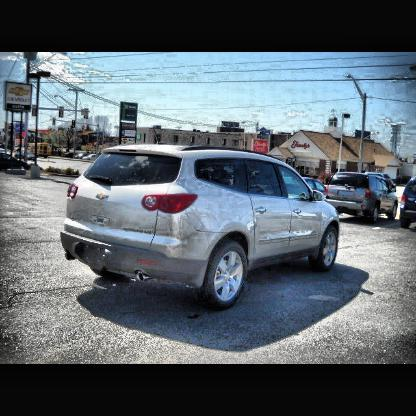Chevrolet Traverse SUV 2012: (59, 143, 341, 309)
